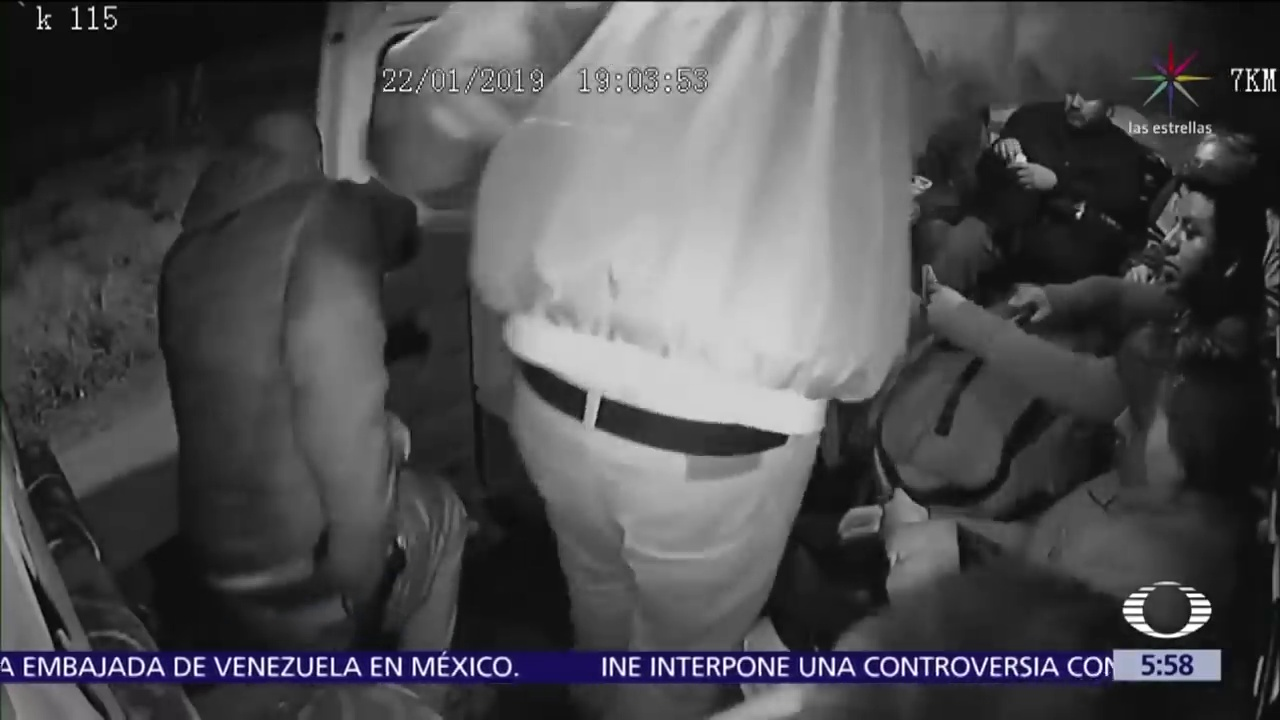pistol: (310, 524, 408, 651)
